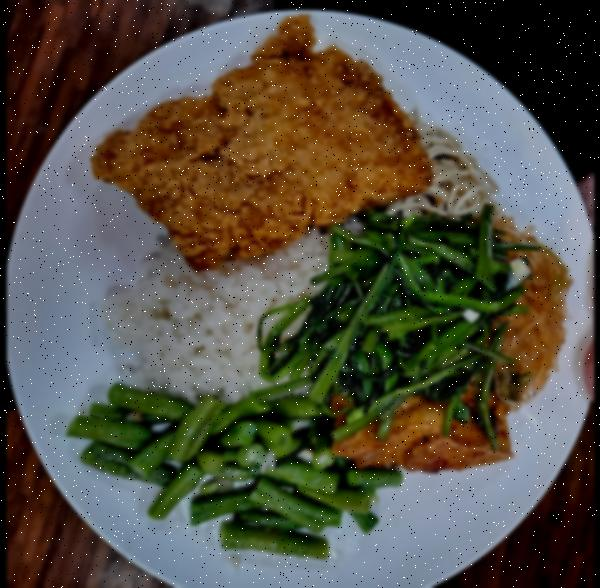kara chicken leg steak: (85, 21, 438, 275)
plate: (6, 4, 588, 588)
side dish: (76, 393, 370, 567), (286, 234, 507, 409), (347, 396, 512, 494), (496, 241, 576, 406), (420, 130, 508, 226)
white rice: (97, 242, 320, 404)
